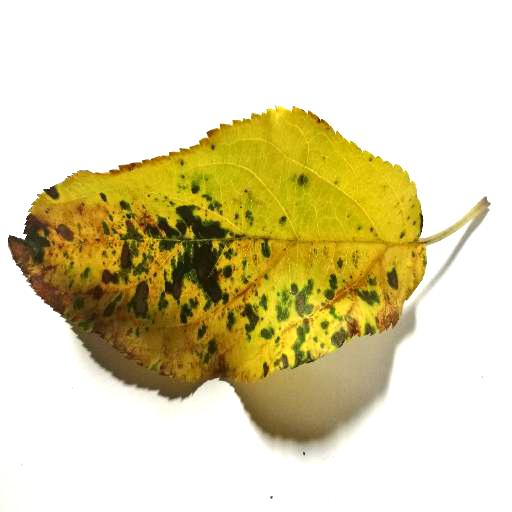Brown_Spot: (1, 190, 408, 389)
